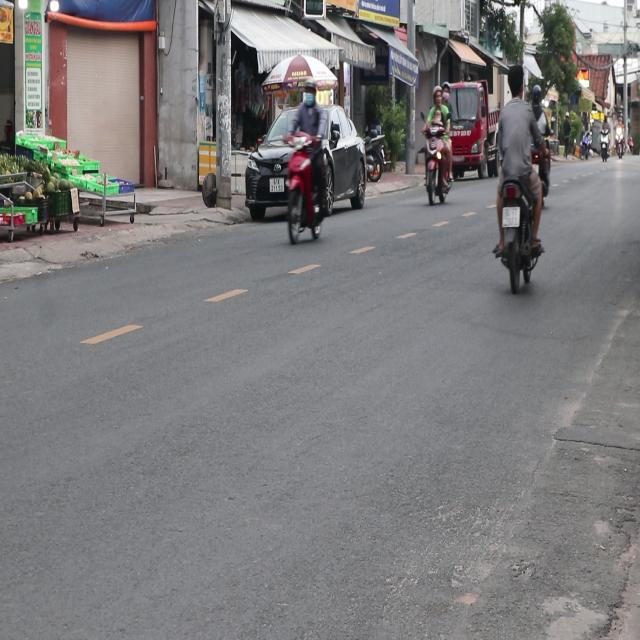licenseplate: (490, 62, 547, 291)
motorcyclist: (505, 64, 523, 98)
nohelmet: (502, 206, 519, 226)
